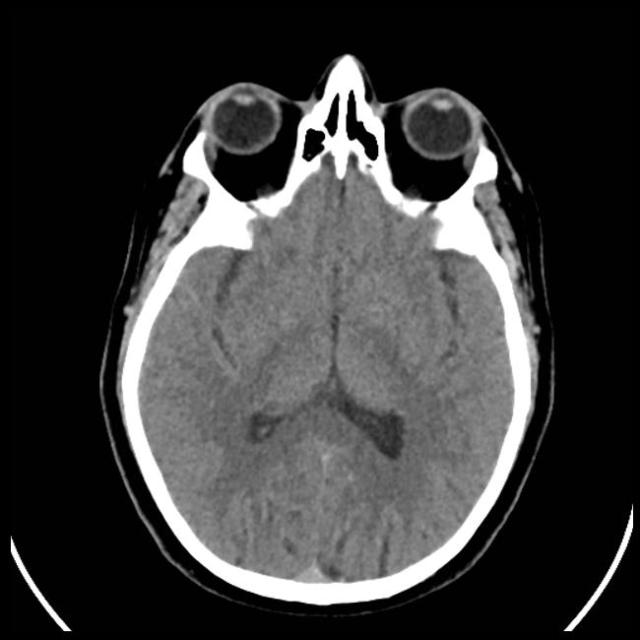lesion: (102, 53, 556, 604)
